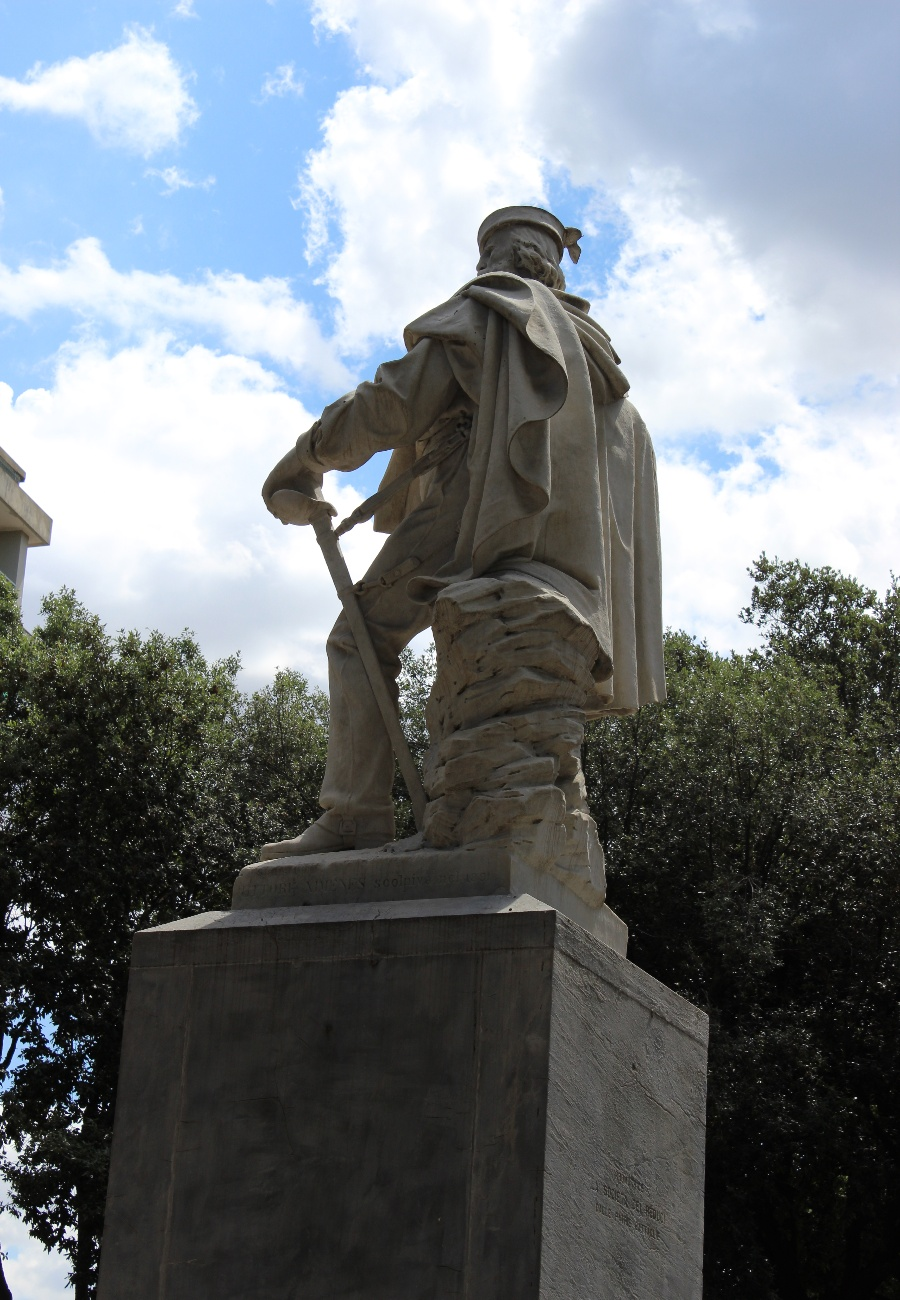Giuseppe Garibaldi: (259, 209, 669, 903)
